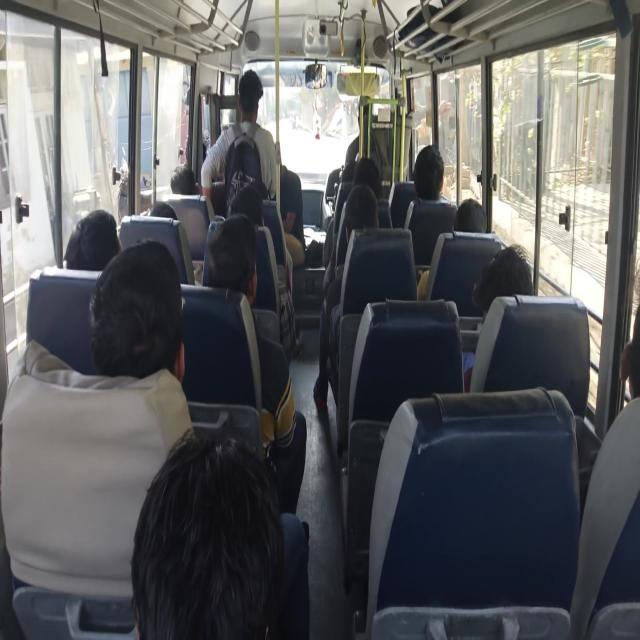person: (159, 428, 254, 622), (96, 236, 208, 366), (601, 299, 640, 464), (210, 208, 260, 305), (69, 215, 131, 289), (477, 243, 520, 315), (411, 144, 454, 207), (230, 70, 274, 122), (348, 181, 380, 250), (454, 190, 489, 252), (134, 197, 180, 241), (228, 180, 264, 233), (228, 173, 270, 215), (268, 138, 295, 197), (162, 160, 198, 203), (362, 150, 382, 188)
